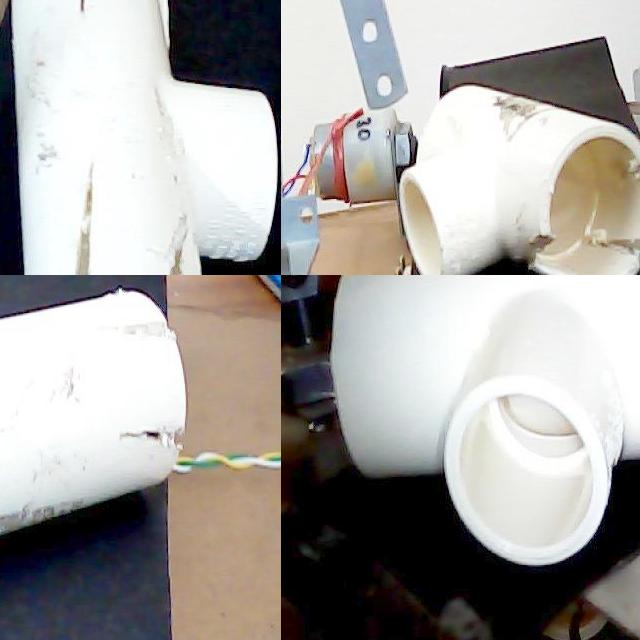Defective: (510, 84, 640, 275), (102, 296, 186, 508), (0, 491, 77, 583), (62, 137, 103, 275), (150, 191, 209, 275), (65, 0, 119, 80), (145, 0, 173, 93)
T Joint: (330, 275, 640, 568), (9, 0, 280, 275), (0, 291, 187, 541), (399, 86, 640, 275)
